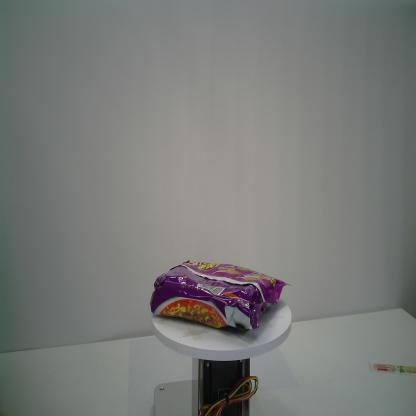Instant Noodles: (149, 260, 292, 330)
